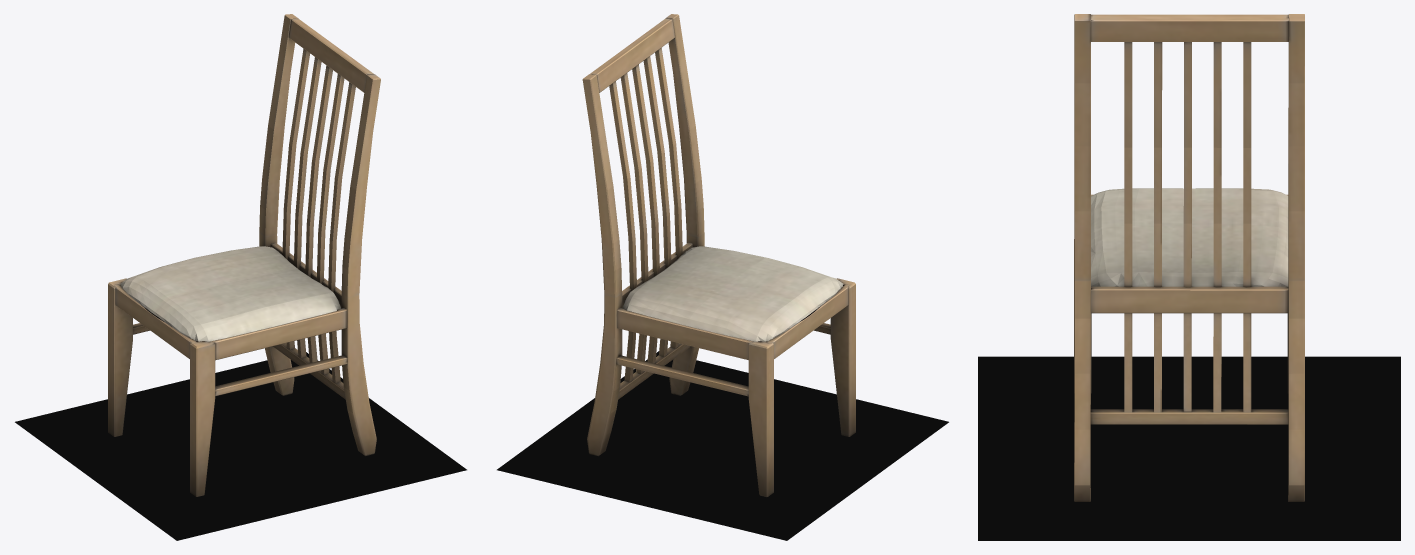
Rendered from stuhl.obj.
3 renders of one model, left to right at view 1: azimuth 30°, elevation 25°; view 2: azimuth 150°, elevation 25°; view 3: azimuth 270°, elevation 25°, orthographic. The views are drawn at different scales.
Visible parts, largest first — view 1: stuhl, stuhl.001; view 2: stuhl, stuhl.001; view 3: stuhl.001, stuhl.
Part boxes in pixels (x1,y1,x2,y2): stuhl: (108,14,380,496); stuhl.001: (15,352,466,540); stuhl: (582,14,855,496); stuhl.001: (497,351,948,540); stuhl.001: (978,356,1400,540); stuhl: (1074,14,1304,501).
Size of the model in its own units: 3.38 by 4.2 by 3.27.
2 materials, 2 textured.
